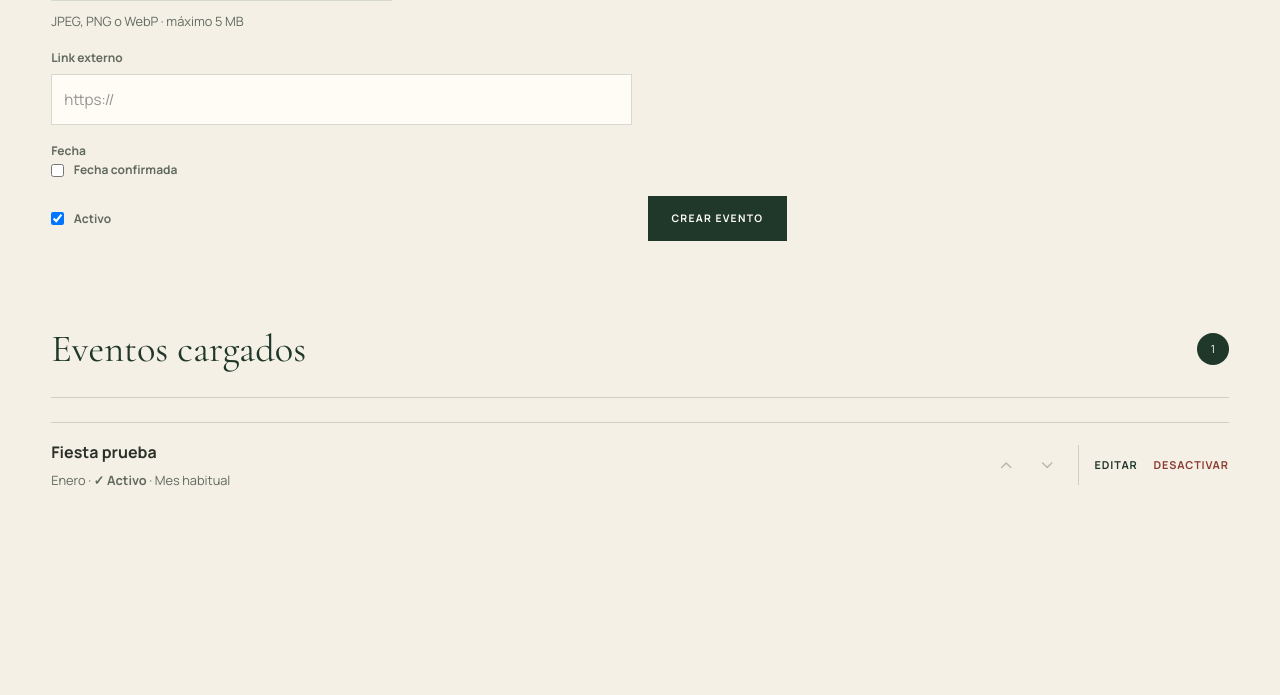
EventsAdmin › loads editing data, scrolls to the form, focuses Nombre, and cancels
(page scrolled)
Click the button "Editar". click: (1116, 465)
box: [1094,449,1138,481]
(page scrolled)
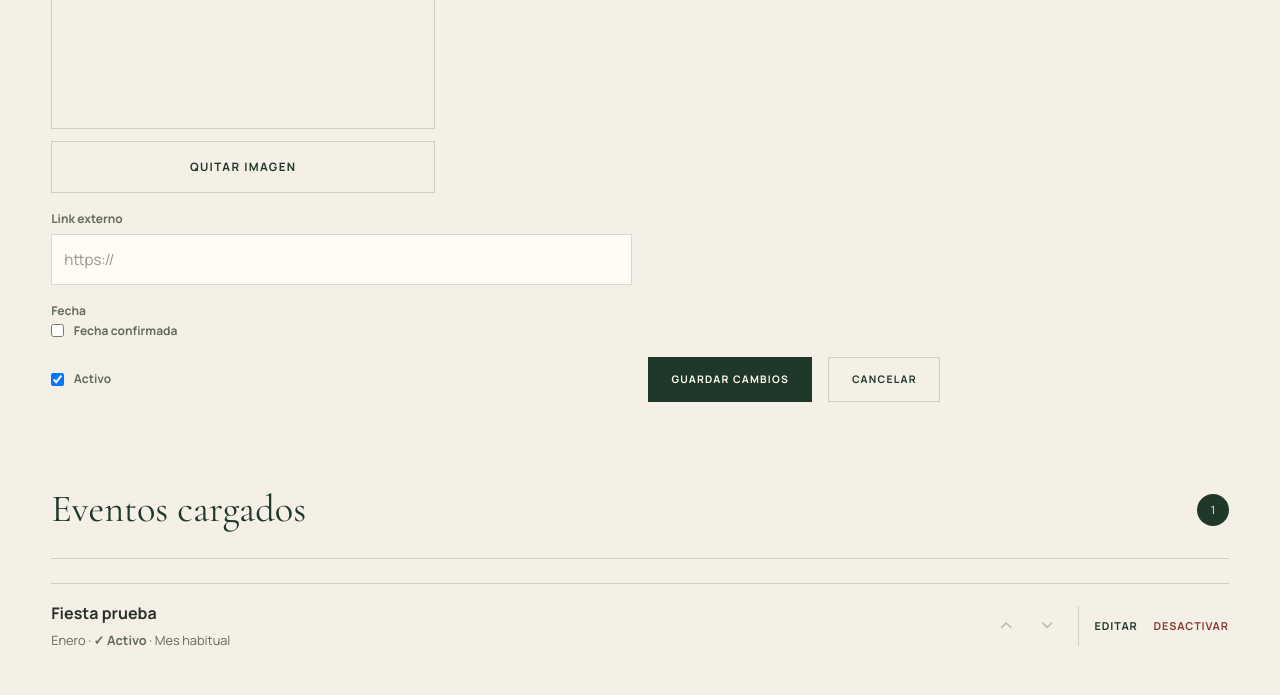
Now the button "Guardar cambios" is shown, box [648,357,812,402]
Click the button "Cancelar". click: (884, 379)
box: [828,357,940,402]
(page scrolled)
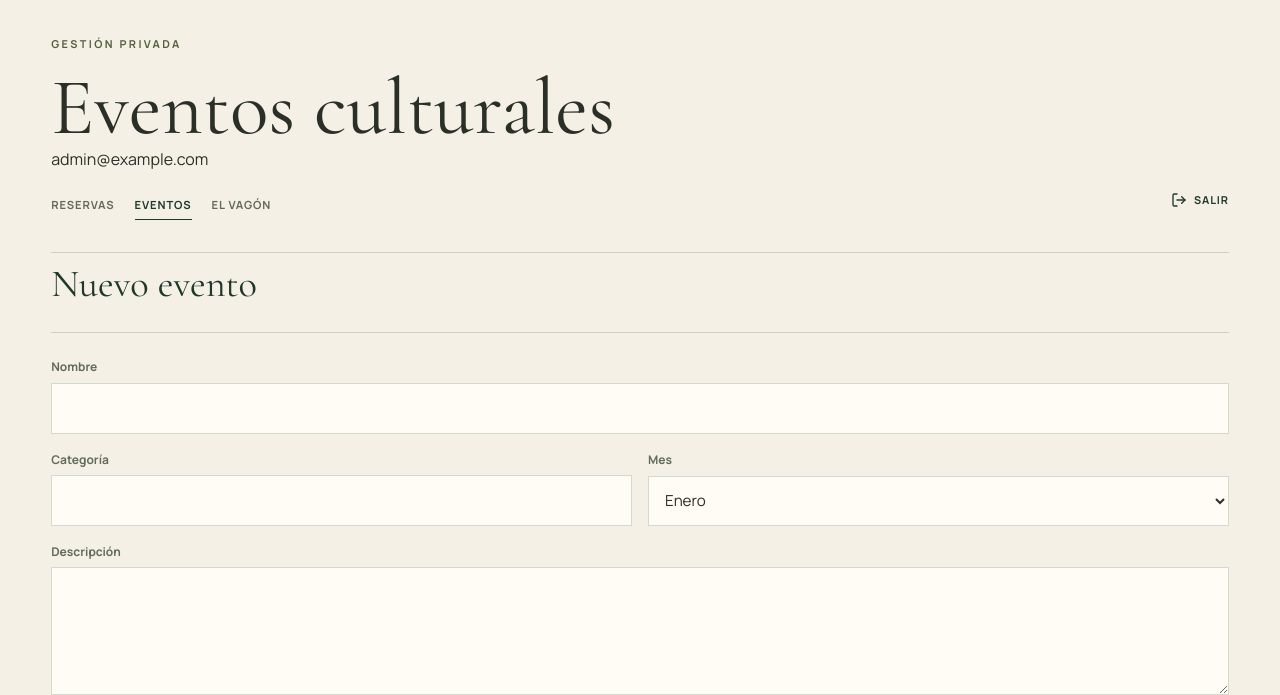
Now the heading "Nuevo evento" is shown, box [51,253,257,316]
